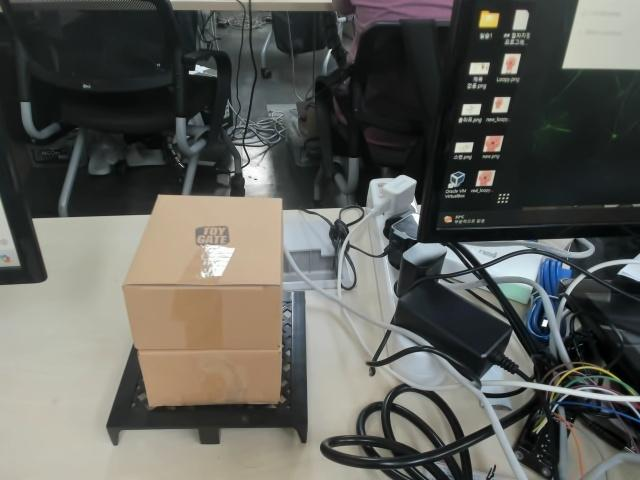box: (104, 192, 309, 445)
